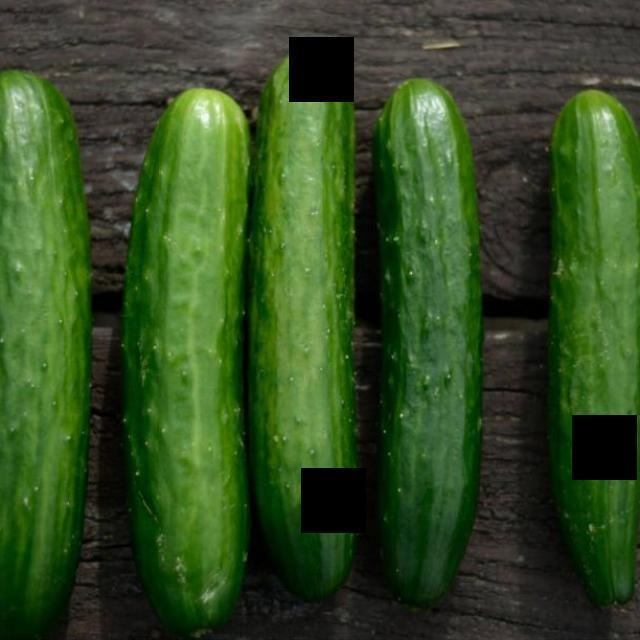cucumber: (117, 84, 245, 640), (250, 44, 362, 608), (372, 76, 488, 614), (0, 65, 100, 640), (547, 89, 640, 609)
